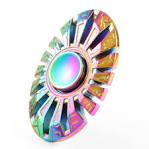fidget_spinner: (16, 5, 134, 145)
